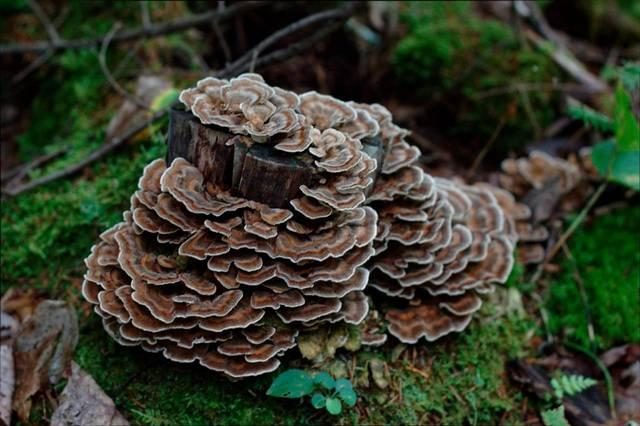poisonous_mushroom: (79, 70, 530, 380)
